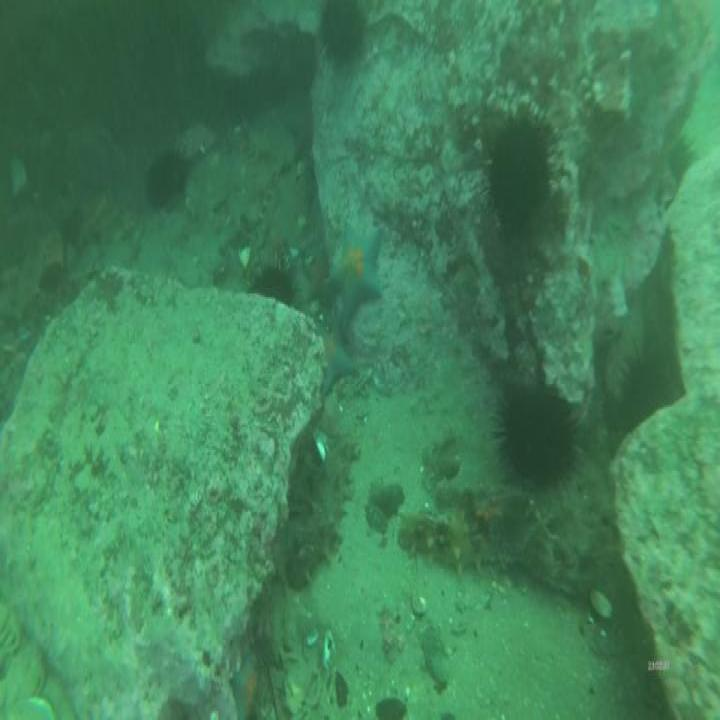echinus: (500, 388, 576, 485), (492, 121, 548, 235), (621, 357, 673, 419), (320, 4, 365, 61), (147, 151, 186, 203), (252, 265, 296, 306), (290, 38, 315, 86), (601, 393, 620, 430)
holothurian: (290, 436, 358, 590), (399, 512, 500, 572)
scallop: (313, 426, 330, 459), (238, 244, 252, 274), (411, 594, 429, 613)
starfish: (327, 226, 385, 313), (231, 652, 258, 720), (323, 334, 352, 393)
